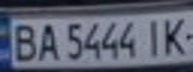4: (118, 17, 142, 60), (81, 19, 103, 61), (100, 18, 121, 60)
5: (63, 19, 84, 61)
A: (33, 20, 60, 62)
B: (6, 20, 42, 63)
I: (139, 16, 166, 57)
K: (157, 14, 193, 56)
